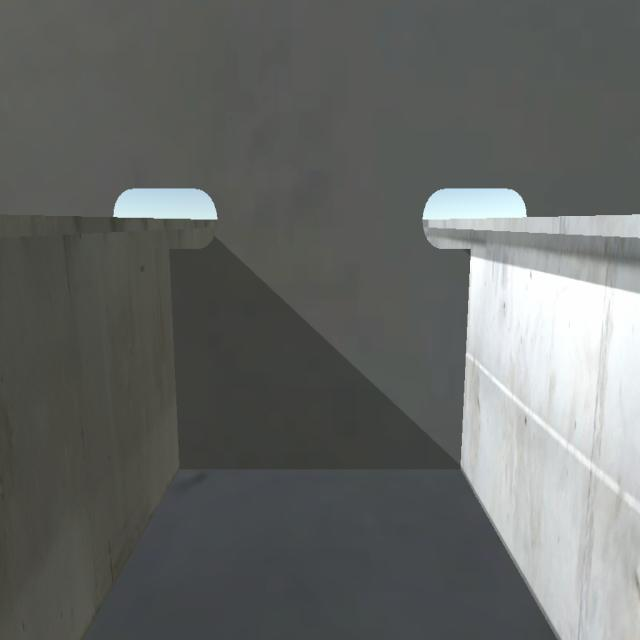fillet_yong_jeop_jang: (175, 459, 469, 477)
longi_yong_jeop_jang: (165, 245, 189, 473), (452, 242, 470, 468)
